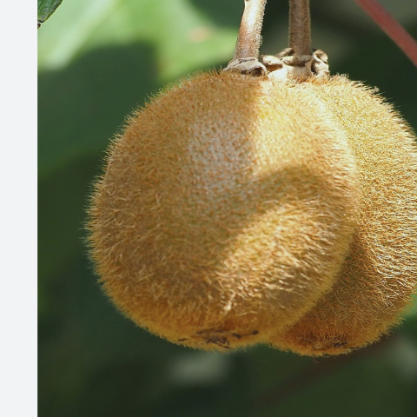kiwi: (84, 50, 359, 374)
